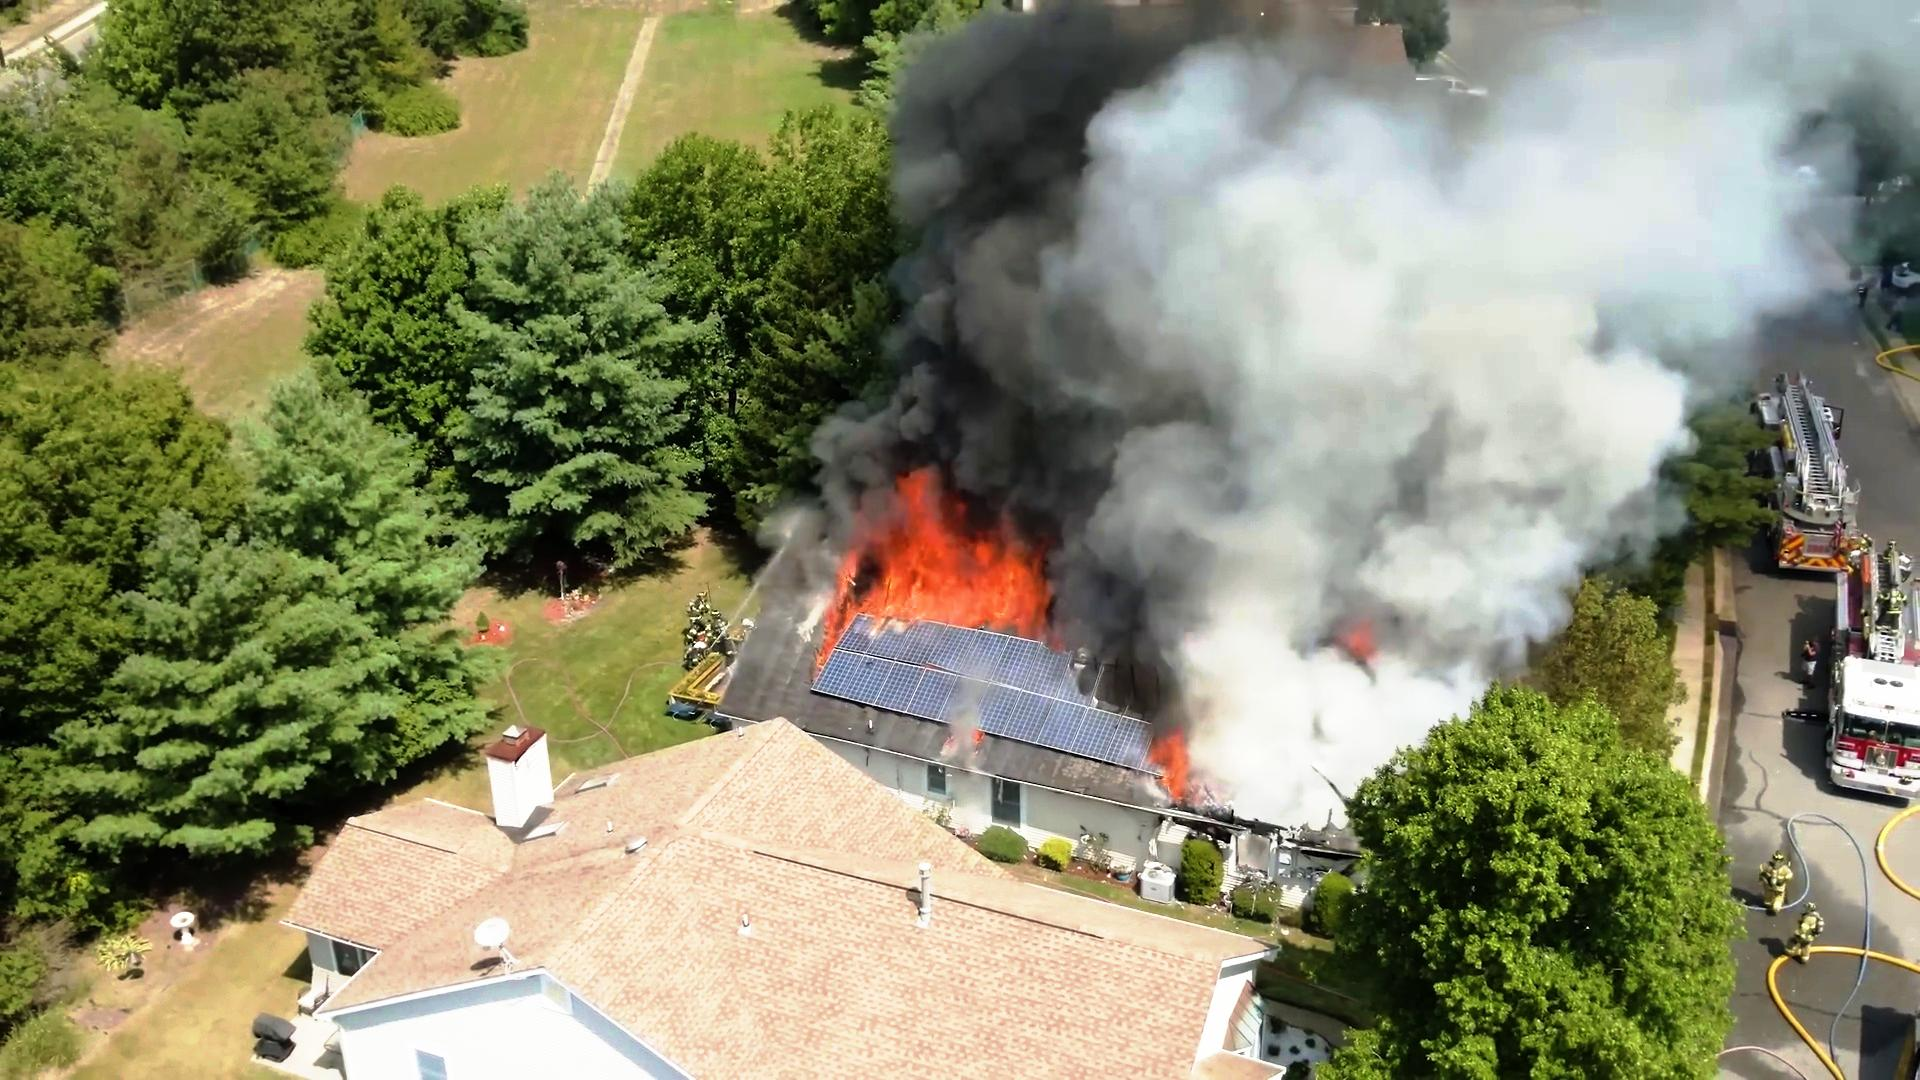fire: (865, 526, 1051, 626)
smoke: (1146, 63, 1531, 583), (893, 33, 1141, 386), (851, 298, 1151, 492)
